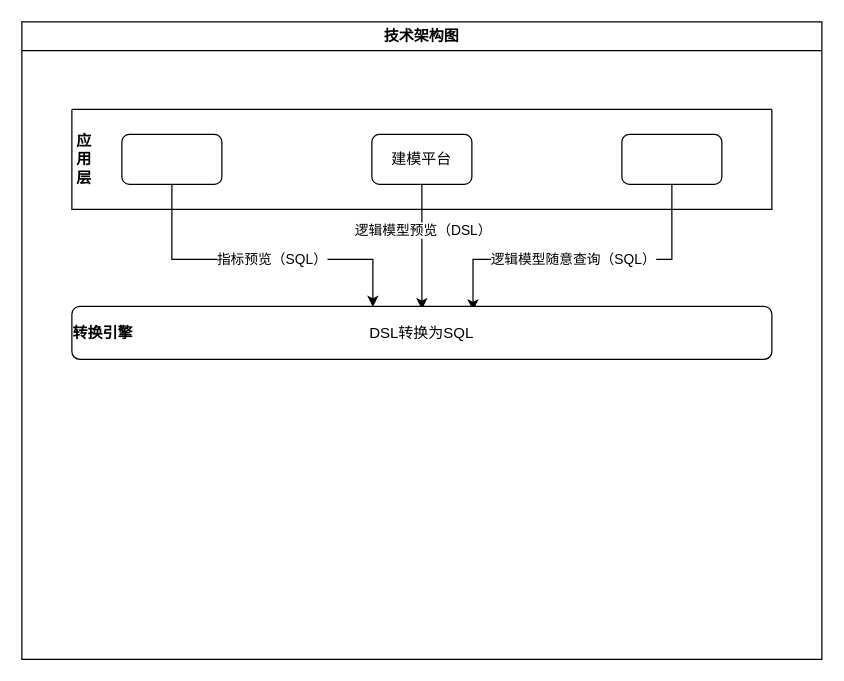
This 844x681 diagram has some shape labels left out. The centre of each missing label's shape, as x and y in pixels:
指标平台: (x=171, y=158)
自助查询: (x=671, y=158)
